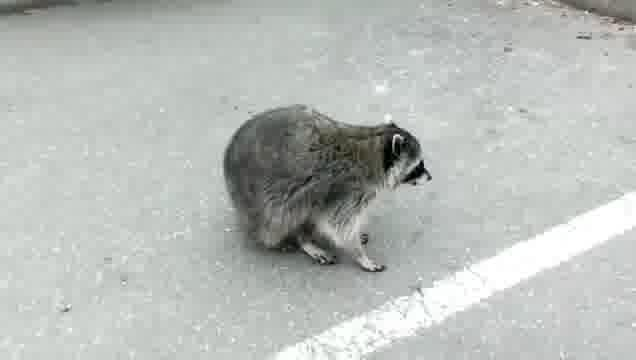raccoon: (223, 102, 435, 278)
